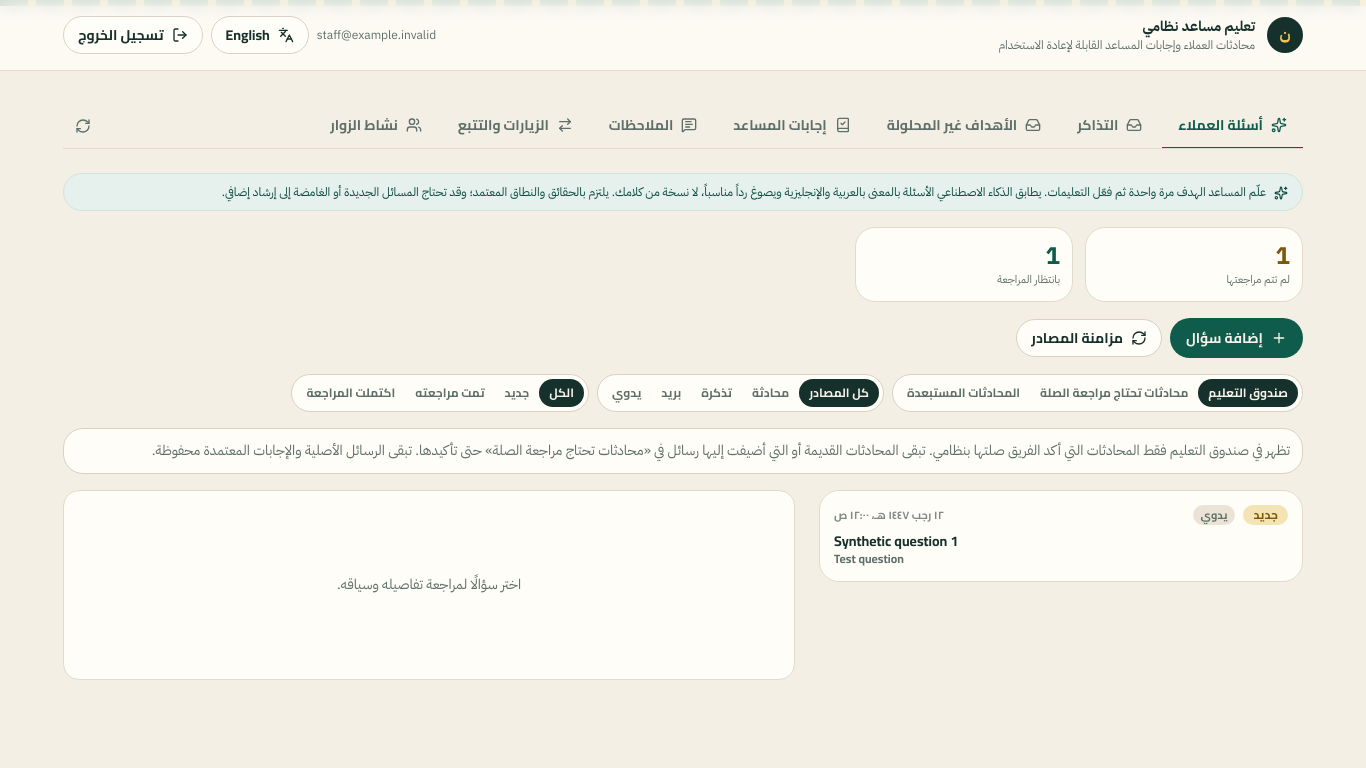
Test case: inbox sync in ar › keeps loaded questions on failure 500, suppresses stale success and connector details, and permits retry
Expected: the button with test id "card-inbox-1" is shown, [819, 490, 1303, 582]
What coordinates should you click on to do the following:
click the button with test id "button-sync"
I would click on:
 (1089, 338)
Its box is [1016, 318, 1162, 356].
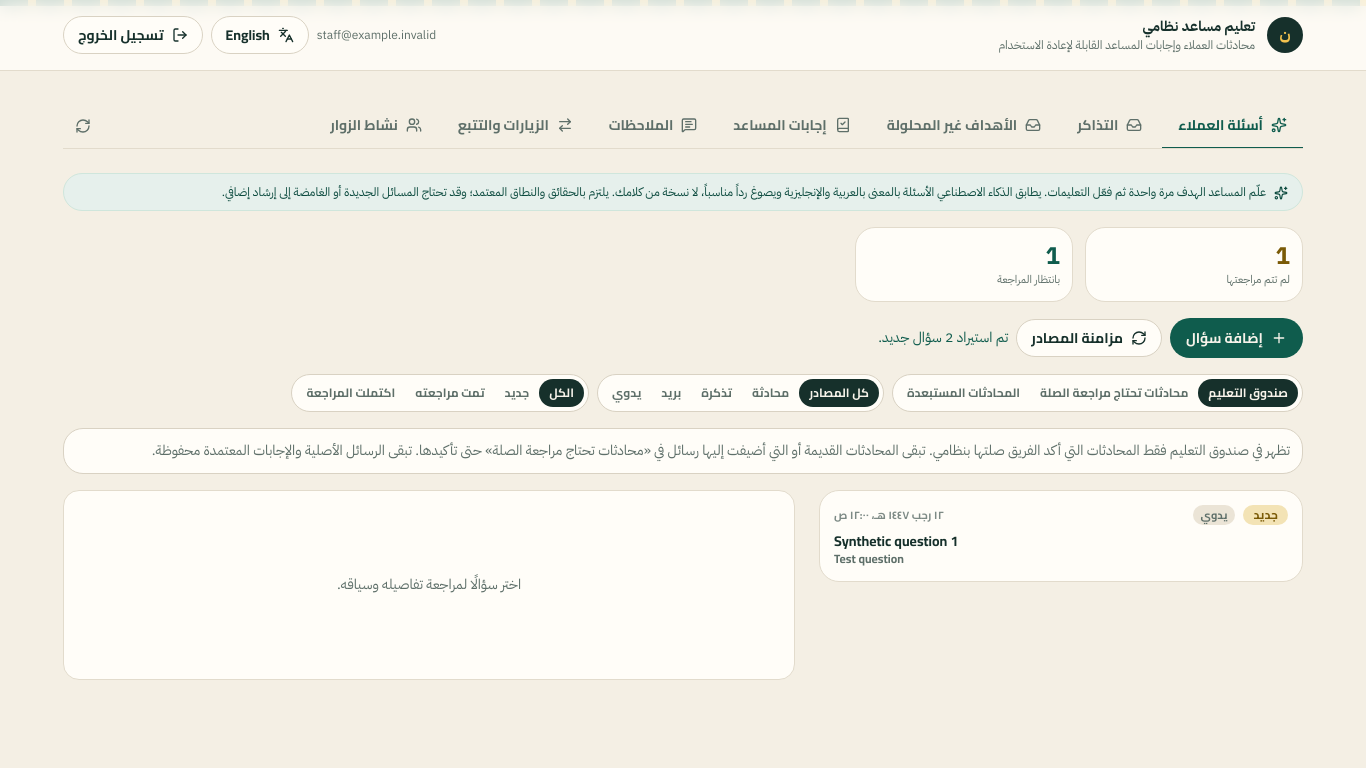
Expected: the message reads "تم استيراد 2 سؤال جديد.", [878, 326, 1008, 348]
What coordinates should you click on to do the following:
click the button with test id "button-sync"
I would click on:
 (1089, 338)
Its box is [1016, 318, 1162, 356].
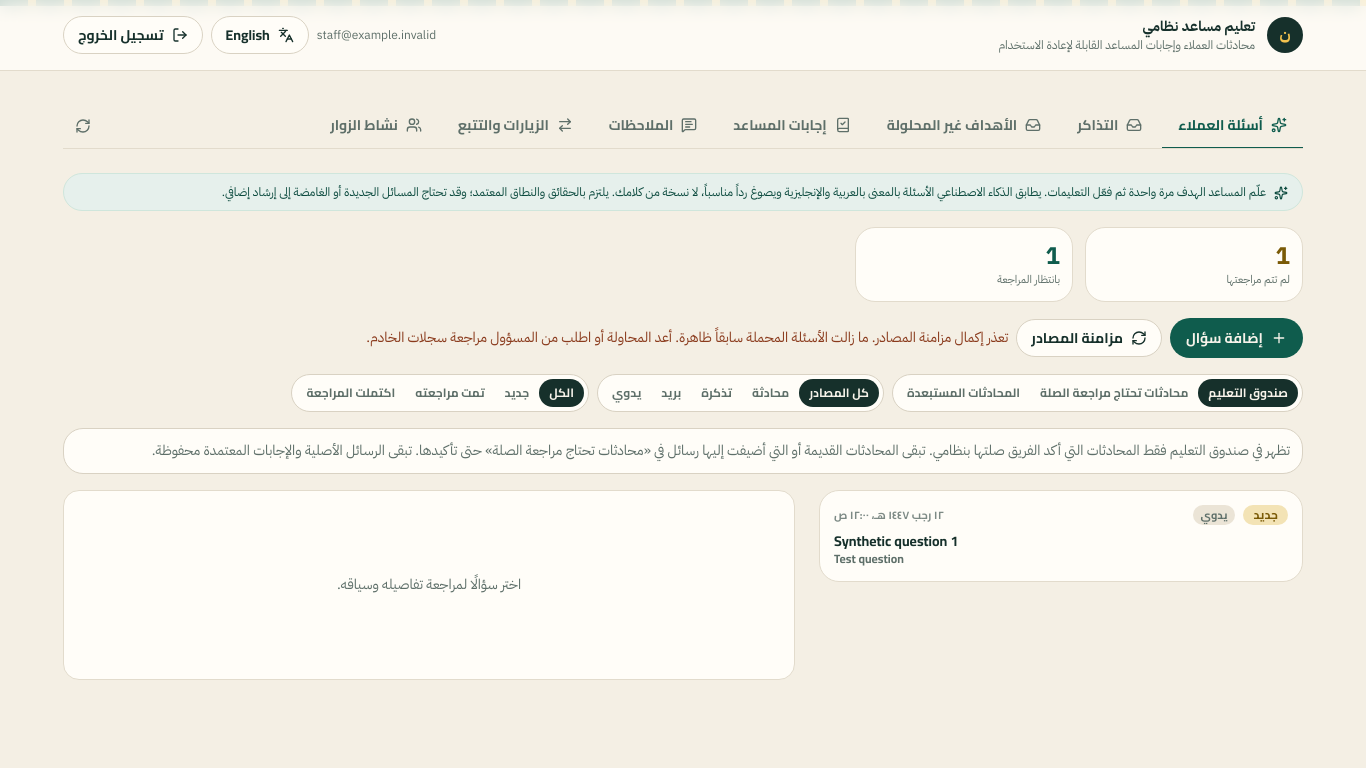
Expected: the button with test id "card-inbox-1" is shown, [819, 490, 1303, 582]
Expected: the message shows "تعذر إكمال مزامنة المصادر.", [366, 326, 1008, 348]
What coordinates should you click on to do the following:
click the button with test id "button-sync"
I would click on:
 (1089, 338)
Its box is [1016, 318, 1162, 356].
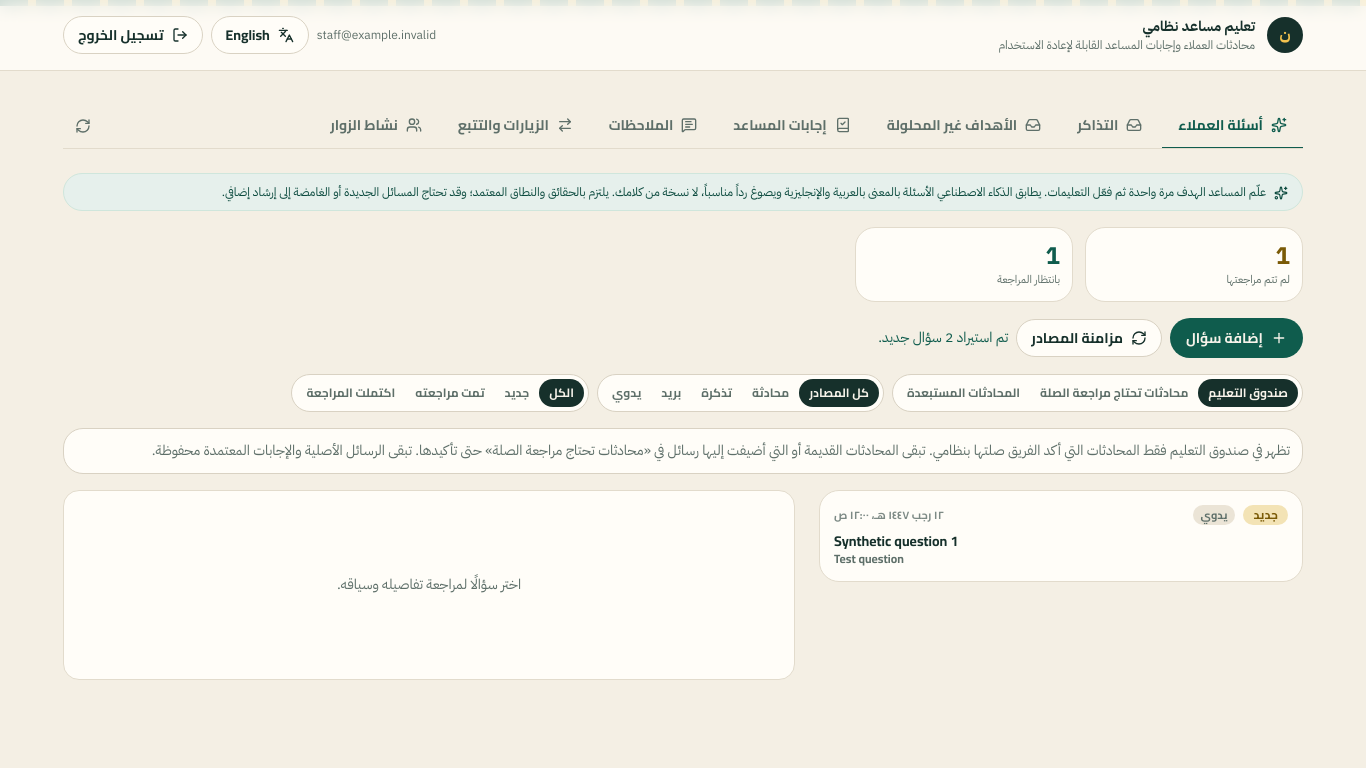
Expected: the message reads "تم استيراد 2 سؤال جديد.", [878, 326, 1008, 348]
